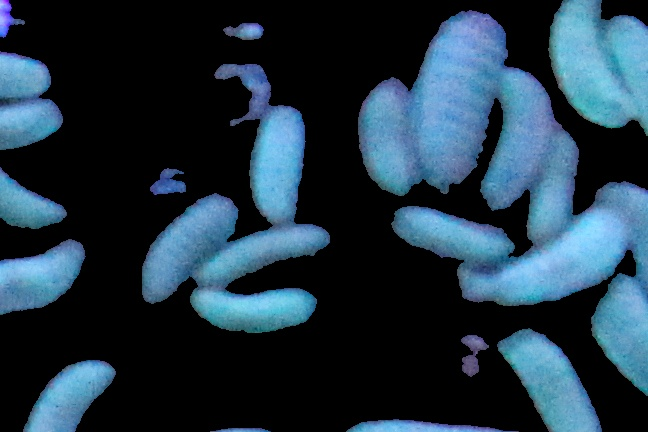larvae: (411, 11, 508, 194), (459, 208, 624, 301), (539, 1, 627, 123), (141, 190, 233, 305), (506, 325, 593, 432), (486, 73, 549, 206), (27, 354, 119, 432), (190, 280, 316, 332), (356, 80, 412, 194), (247, 110, 302, 225), (391, 208, 500, 261), (218, 220, 332, 268), (532, 128, 585, 231), (1, 243, 82, 306), (603, 14, 648, 117), (1, 166, 70, 229), (1, 103, 61, 151), (1, 52, 52, 101)
